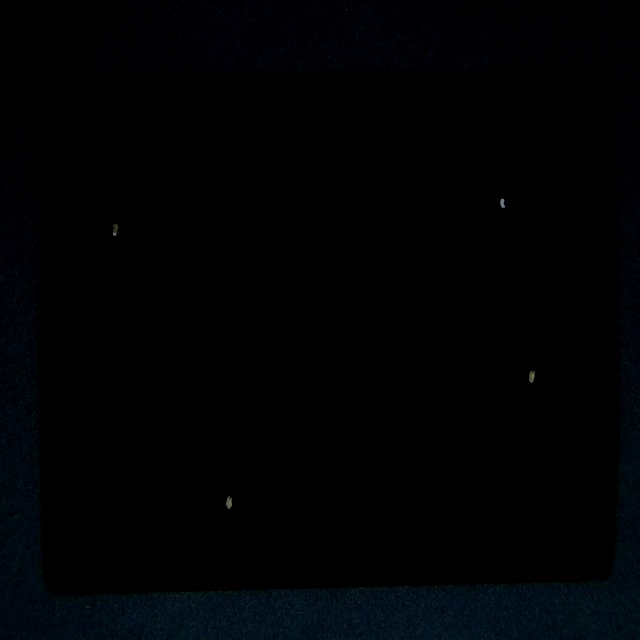stain: (231, 163, 640, 592), (119, 197, 328, 640), (277, 74, 640, 262), (78, 83, 173, 308)
